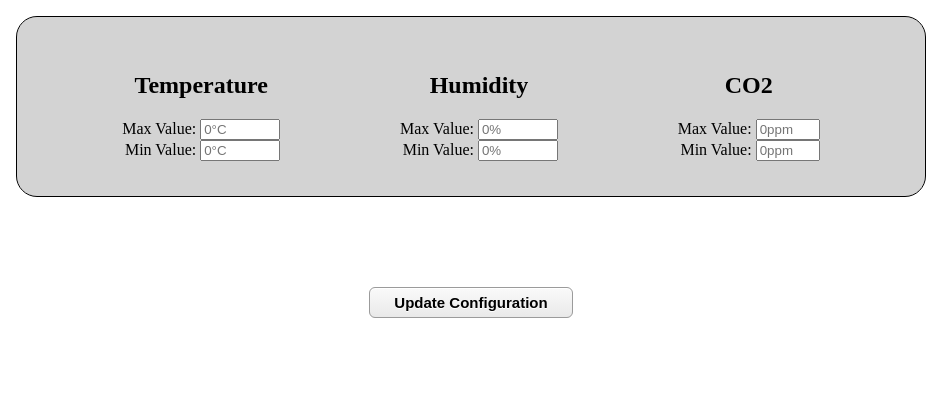
Scenario: max: rejects 101 as a valid temp
In the number field named "inputMaxTempField": (240, 130) x1=200 y1=119 x2=280 y2=140, type "100"
In the number field named "inputMinTempField": (240, 151) x1=200 y1=140 x2=280 y2=161, type "0.5"
In the number field named "inputMaxHumiField": (518, 130) x1=478 y1=119 x2=558 y2=140, type "100"
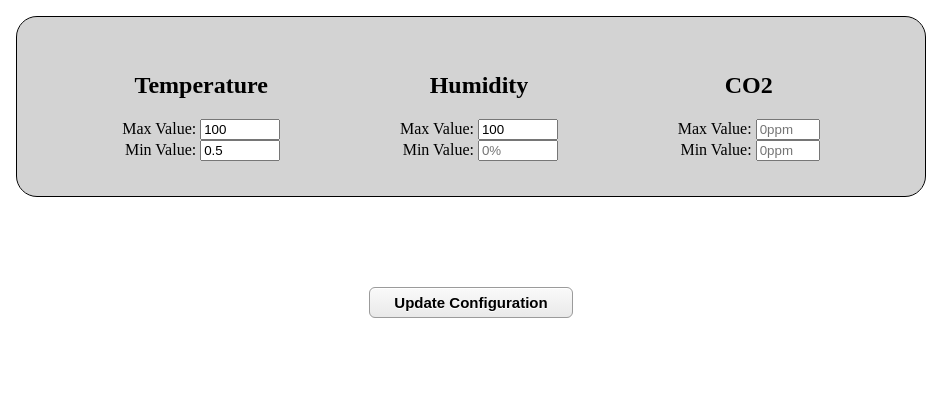
In the number field named "inputMinHumiField": (518, 151) x1=478 y1=140 x2=558 y2=161, type "0.5"
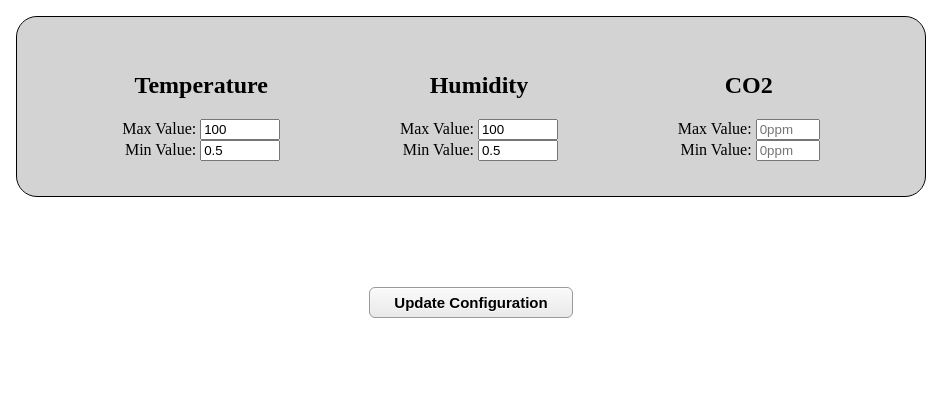
In the number field named "inputMaxCO2Field": (788, 130) x1=756 y1=119 x2=820 y2=140, type "800"
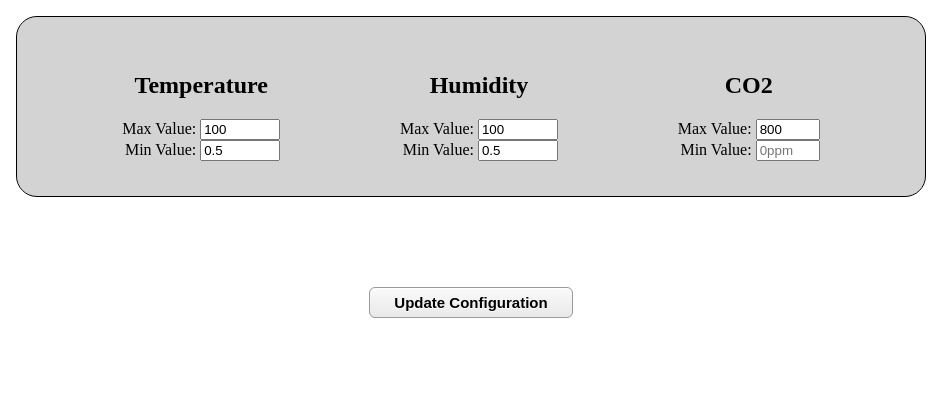
In the number field named "inputMinCO2Field": (788, 151) x1=756 y1=140 x2=820 y2=161, type "400"
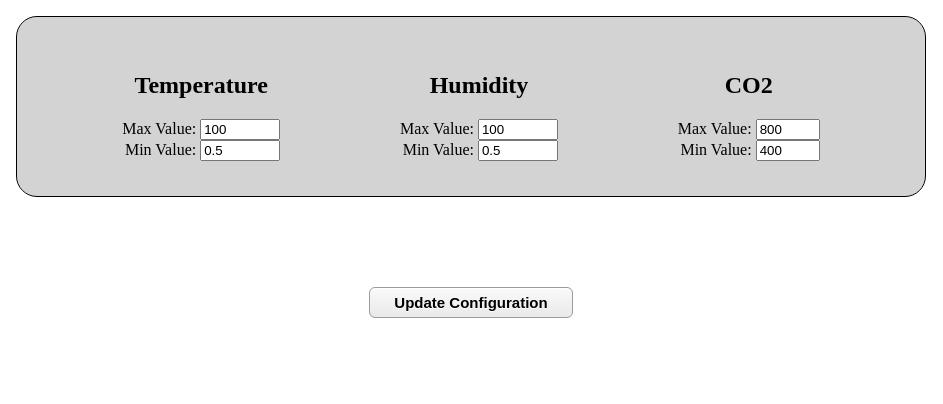
Replace the text in the number field named "inputMaxTempField" with "101": (240, 130) x1=200 y1=119 x2=280 y2=140
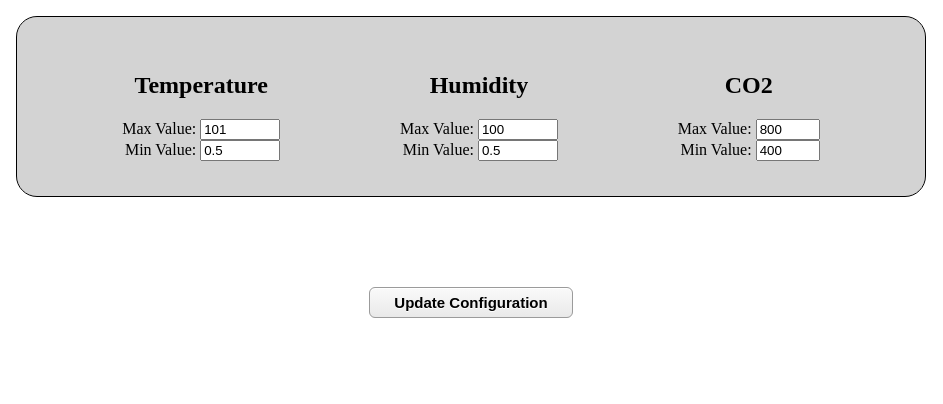
Click the button with aria-label "submitBtn": (471, 302) x1=369 y1=287 x2=573 y2=318
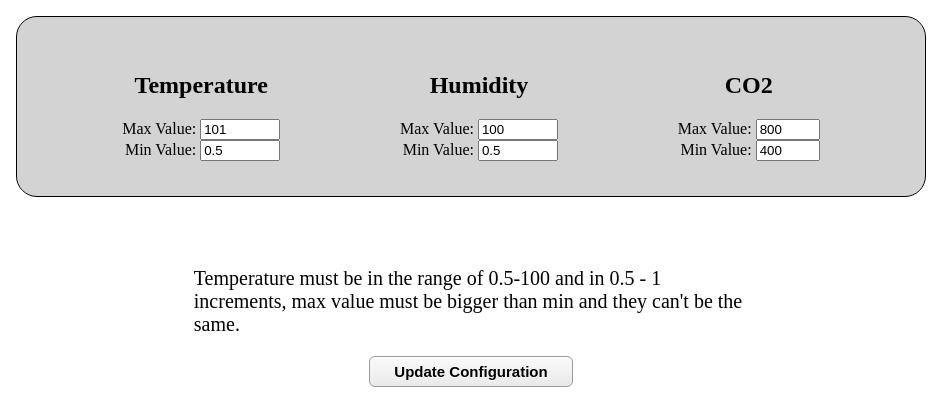
Expected: the element named "responseField" shows "Temperature must be in the range of 0.5-100 and in 0.5 - 1 increments, max value must be bigger than min and they can't be the same.", x1=194 y1=267 x2=742 y2=335
